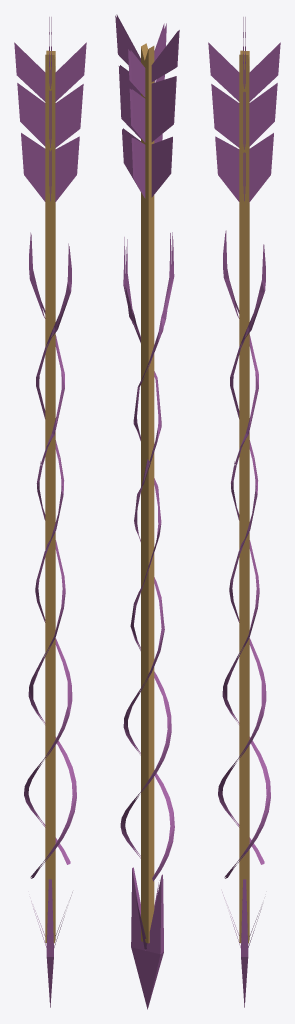
The model's file is Arrow_10.fbx.
3 renders of one model, left to right at view 1: azimuth 90°, elevation 25°; view 2: azimuth 150°, elevation 25°; view 3: azimuth 270°, elevation 25°, orthographic.
Visible parts, largest first — view 1: Comp_Arrow_10; view 2: Comp_Arrow_10; view 3: Comp_Arrow_10.
Boxes of the visible parts, <box> form: Comp_Arrow_10: <box>14,17,86,1007</box>; Comp_Arrow_10: <box>115,14,179,1009</box>; Comp_Arrow_10: <box>208,17,280,1007</box>.
Size of the model in its own units: 11.64 by 174 by 11.64.
